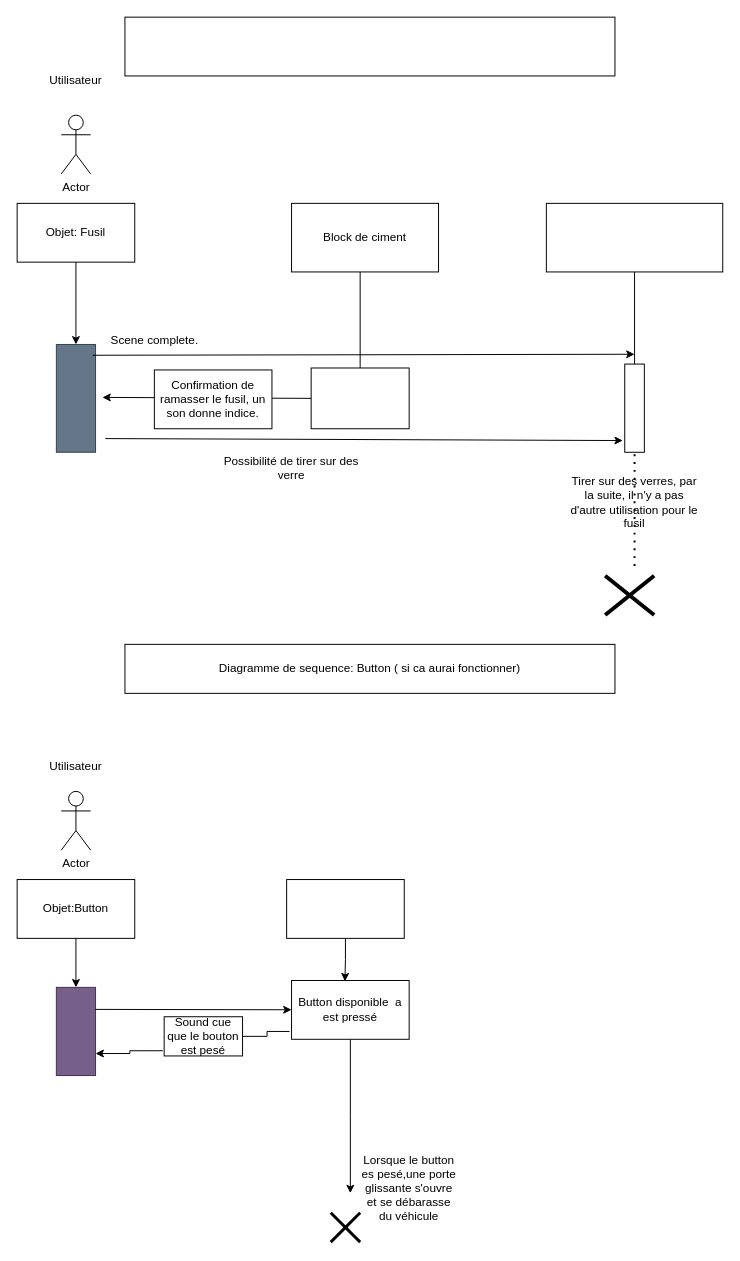
Image size: 740x1261. Some labels were removed from this diagram. Here are the shapes that lost their labels. From the top down, the centre of each, then its label:
At pixel 369 46: "Diagramme de sequence:Fusil".
At pixel 634 237: "Objet: Verre".
At pixel 359 398: "Fusil pret a ramasser sur le bloc de ciment.".
At pixel 345 908: "Button booth".
